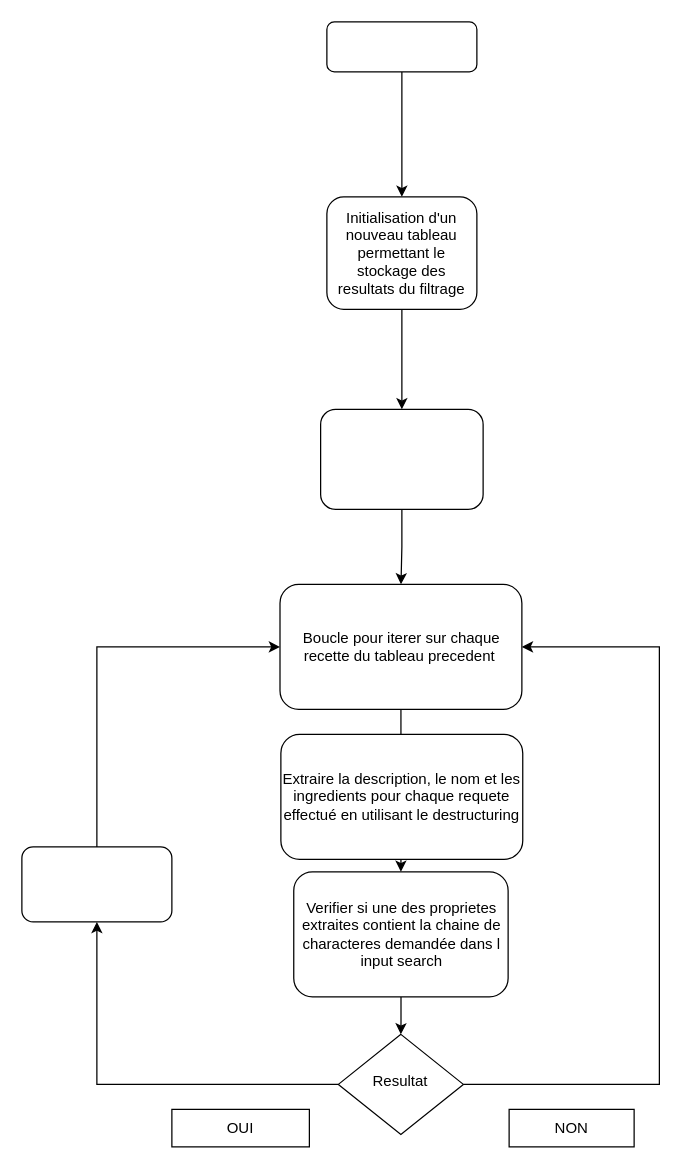
The diagram is 691 pixels wide and 1169 high, and some of its shapes have lost their labels. Here are the shapes that lost their labels. From the top down, the centre of each, then its label:
(x=401, y=46): Stockage des recettes
(x=401, y=458): recuperer user request ( saisies de 3 characteres dans la search bar)
(x=96, y=884): Ajouter la recette dans le tableau des resultat
